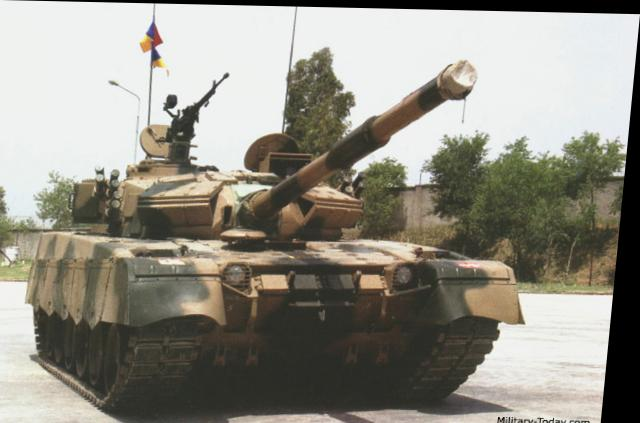tank: (26, 150, 533, 409)
